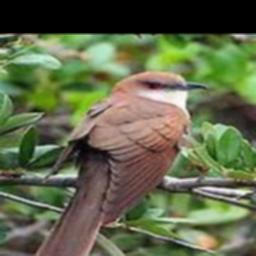Cuckoo: (29, 71, 208, 256)
